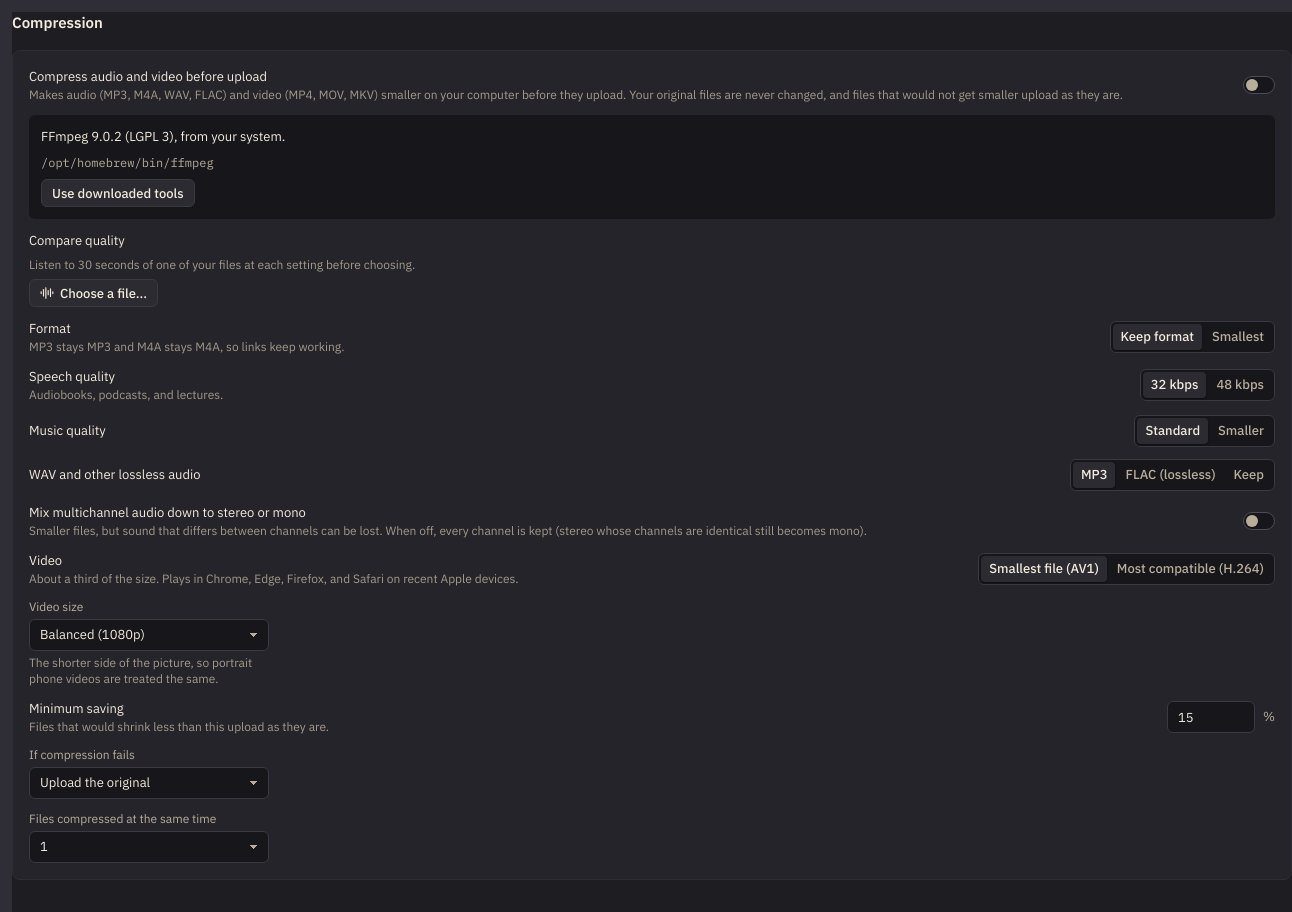
CompressionSection › can switch from a system FFmpeg back to the download
Expected: the text "FFmpeg 9.0.2 (LGPL 3), from your system." is shown, [41,128,285,145]
Expected: the text "/opt/homebrew/bin/ffmpeg" is shown, [41,155,214,170]
Click the button "Use downloaded tools" at (118, 193), box [41,179,195,207]
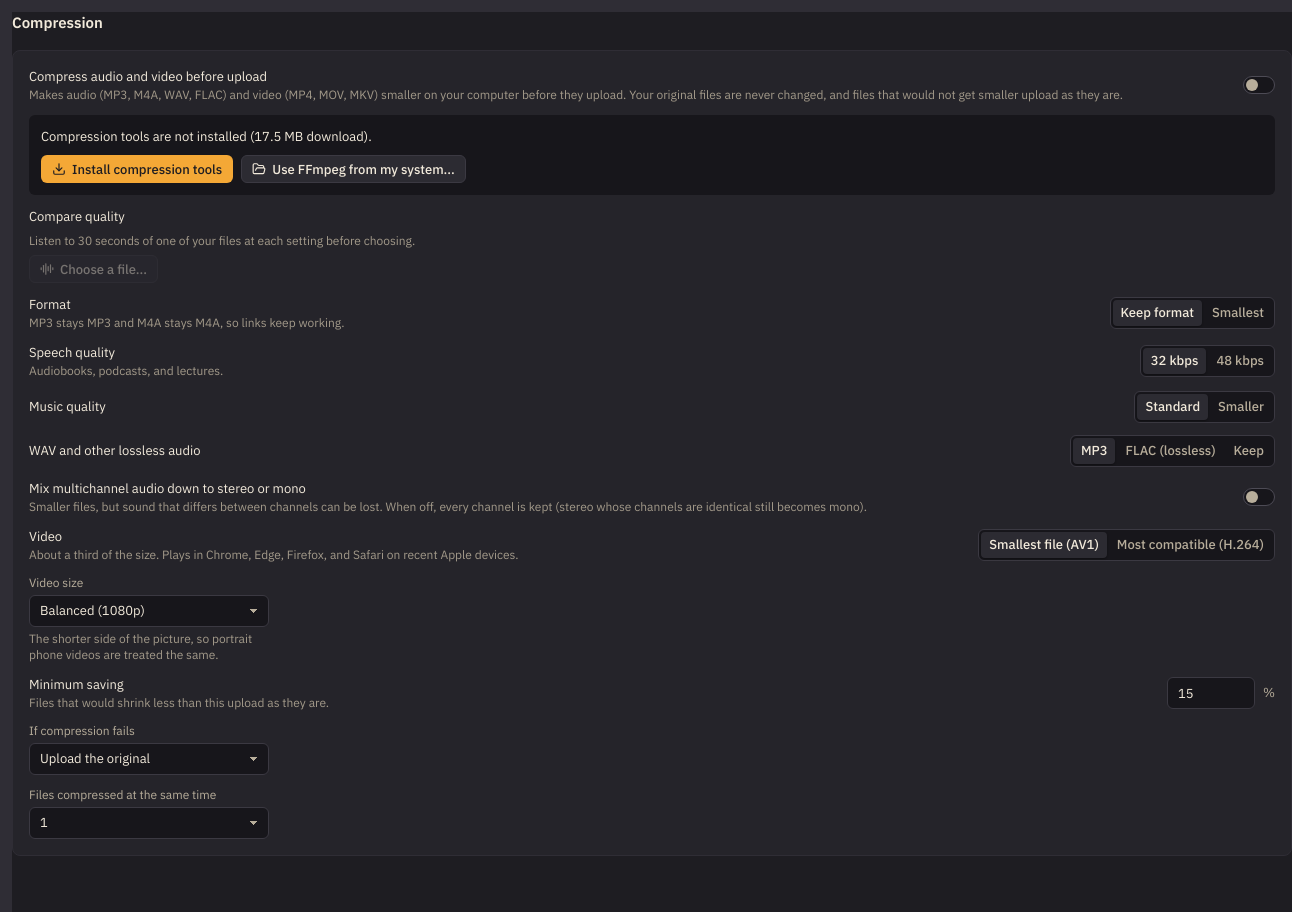
Result: the button "Install compression tools" is shown at [41,155,233,183]
